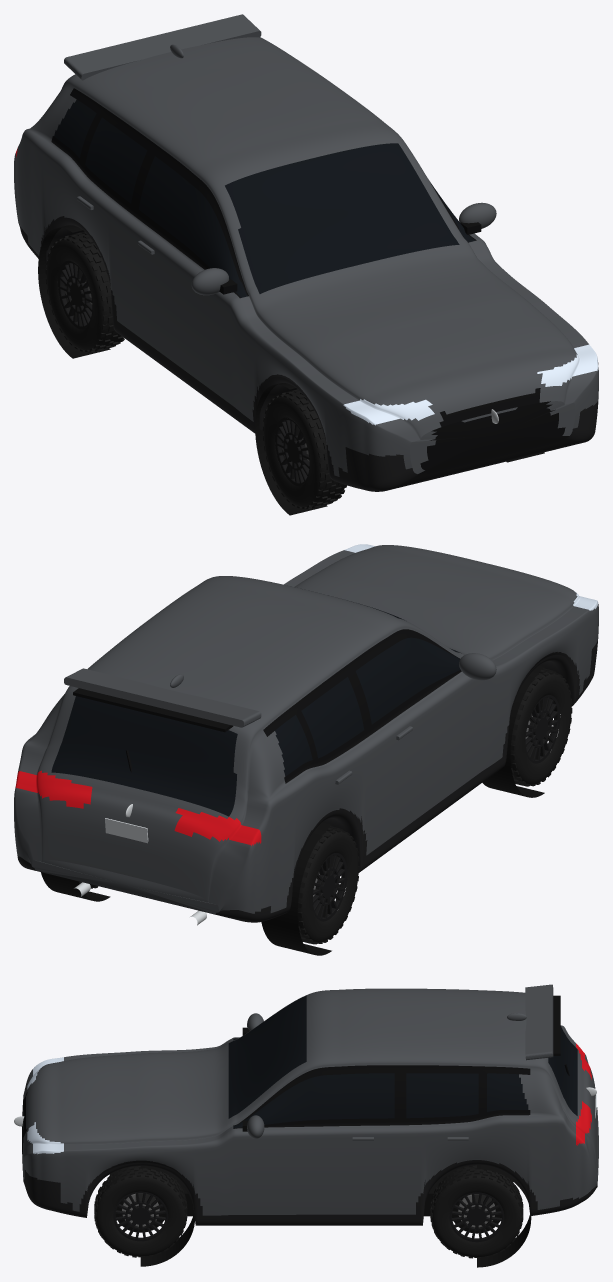
File: Toyota_RAV4_2023_LE.glb
The picture shows the model from 3 angles, top to bottom: view 1: azimuth 30°, elevation 25°; view 2: azimuth 150°, elevation 25°; view 3: azimuth 270°, elevation 25°; orthographic projection. The views are drawn at different scales.
Parts seen in each view (by area): view 1: Body, Tire (×2), Body_FrontFascia, Roof_Spoiler, Rim_Face (×2), Tread (×2), Wheelwell_Liner (×2), Mirror_R, Mirror_L; view 2: Body, Tire (×2), Wheelwell_Liner (×3), Roof_Spoiler, Rim_Face (×2), Body_RearFascia, Tread (×2), Spoiler_Lip, Mirror_R, License_Plate_Rear; view 3: Body, Tire (×2), Rim_Face (×2), Tread (×2), Roof_Spoiler, Wheelwell_Liner (×2), Underbody, Spoiler_Lip.
Part boxes in pixels (x1,y1,x2,y2): Body: (14, 37, 598, 491); Tire (×2): (46, 234, 344, 507); Body_FrontFascia: (410, 401, 575, 474); Roof_Spoiler: (64, 14, 261, 80); Rim_Face (×2): (58, 260, 309, 486); Tread (×2): (45, 231, 346, 508); Wheelwell_Liner (×2): (38, 225, 327, 515); Mirror_R: (191, 268, 228, 295); Mirror_L: (459, 202, 496, 228); Body: (14, 544, 598, 922); Tire (×2): (297, 671, 571, 942); Wheelwell_Liner (×3): (41, 665, 544, 955); Roof_Spoiler: (64, 668, 261, 727); Rim_Face (×2): (312, 695, 560, 921); Body_RearFascia: (32, 860, 218, 914); Tread (×2): (298, 668, 572, 944); Spoiler_Lip: (73, 688, 233, 732); Mirror_R: (459, 653, 496, 680); License_Plate_Rear: (105, 818, 148, 843); Body: (23, 988, 597, 1225); Tire (×2): (95, 1166, 521, 1257); Rim_Face (×2): (113, 1191, 504, 1242); Tread (×2): (94, 1165, 523, 1258); Roof_Spoiler: (525, 984, 553, 1060); Wheelwell_Liner (×2): (140, 1165, 531, 1267); Underbody: (109, 1165, 476, 1216); Spoiler_Lip: (553, 995, 560, 1055).
Size of the model in its own units: 2.19 by 1.81 by 4.68.
